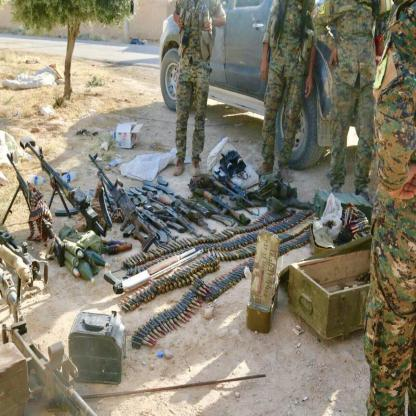rifle: (22, 136, 101, 233), (5, 150, 66, 263), (91, 151, 156, 253), (189, 181, 243, 226), (206, 174, 258, 217), (146, 200, 202, 238)
